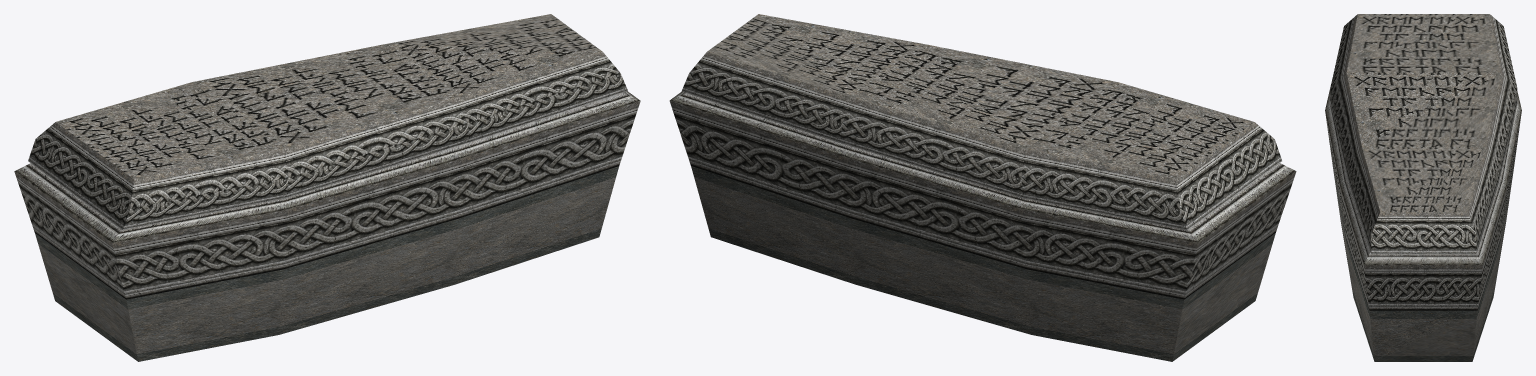
The model's file is mm9_deco_coffinfancy.glb.
3 renders of one model, left to right at view 1: azimuth 30°, elevation 25°; view 2: azimuth 150°, elevation 25°; view 3: azimuth 270°, elevation 25°, orthographic. The views are drawn at different scales.
Visible parts, largest first — view 1: Coffinfancy; view 2: Coffinfancy; view 3: Coffinfancy.
Boxes of the visible parts, x1,y1,x2,y2 form: Coffinfancy: [14, 14, 640, 361]; Coffinfancy: [669, 14, 1296, 361]; Coffinfancy: [1325, 14, 1521, 361].
Size of the model in its own units: 3.97 by 1.27 by 1.48.
2 materials, 2 textured.
